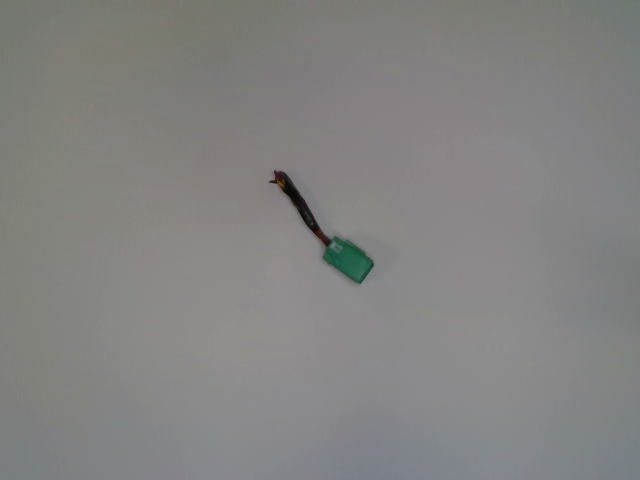green_large: (269, 170, 374, 284)
